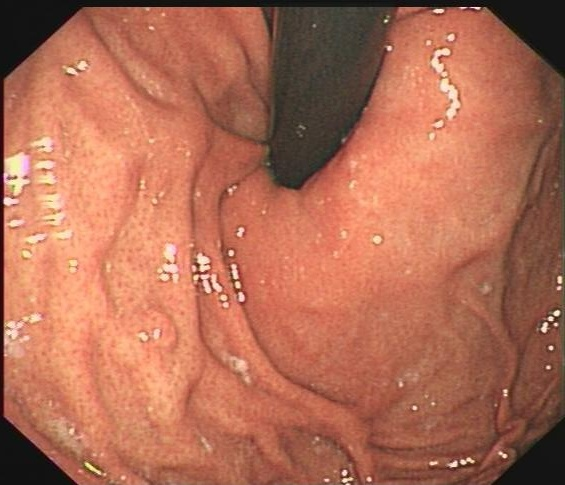Polyp: (114, 305, 189, 359)
